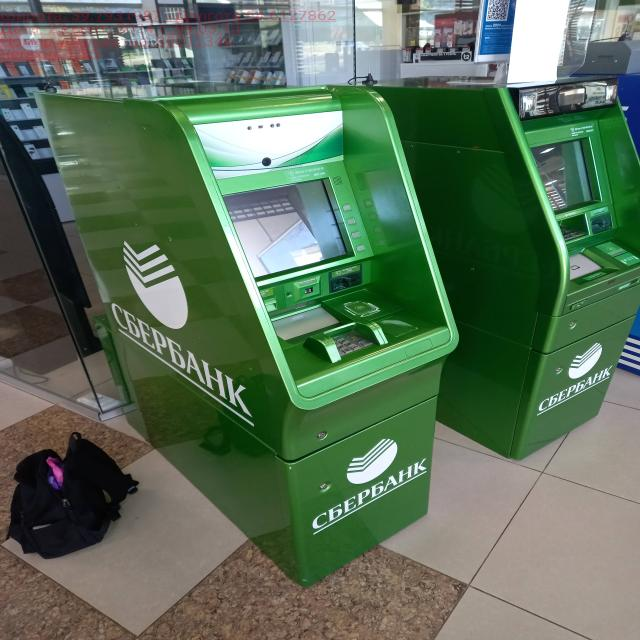bank: (40, 87, 458, 580), (365, 80, 640, 466)
